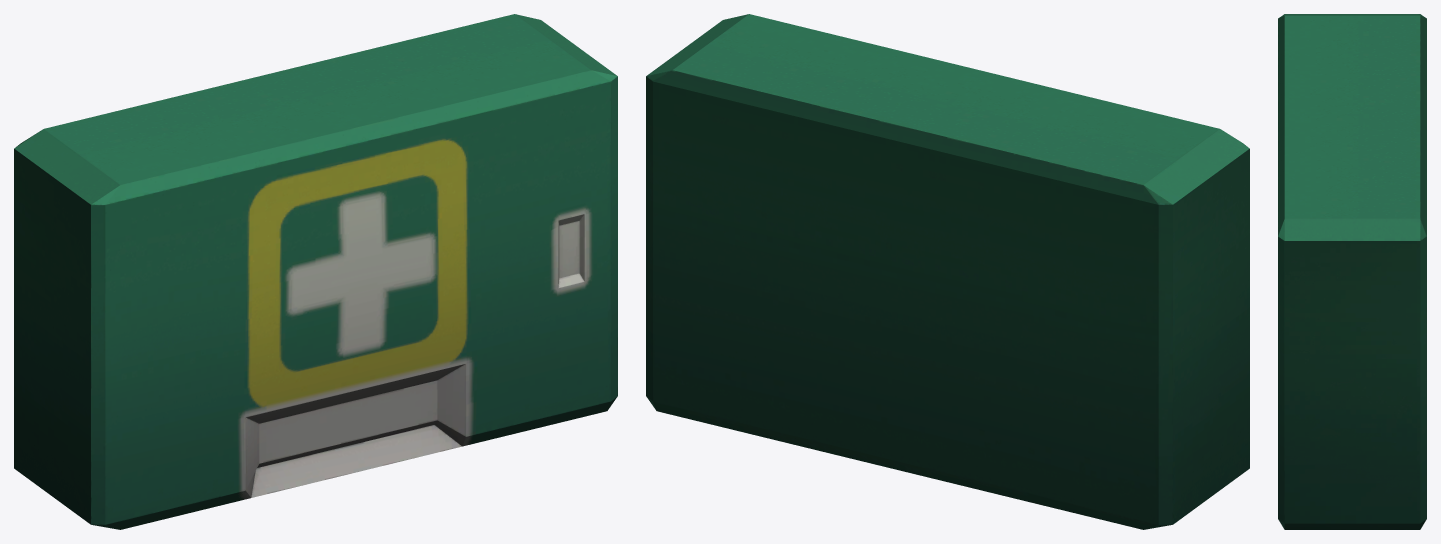
Rendered from SM_Wall_MedKit.FBX.
3 renders of one model, left to right at view 1: azimuth 30°, elevation 25°; view 2: azimuth 150°, elevation 25°; view 3: azimuth 270°, elevation 25°, orthographic. The views are drawn at different scales.
Parts seen in each view (by area): view 1: SM_Wall_MedKit; view 2: SM_Wall_MedKit; view 3: SM_Wall_MedKit.
Boxes of the visible parts, bbox=[...] form: SM_Wall_MedKit: bbox=[14, 14, 617, 529]; SM_Wall_MedKit: bbox=[646, 14, 1249, 529]; SM_Wall_MedKit: bbox=[1278, 14, 1426, 529].
Bounding box in the file's own units: 41.25 × 11.43 × 25.8.
